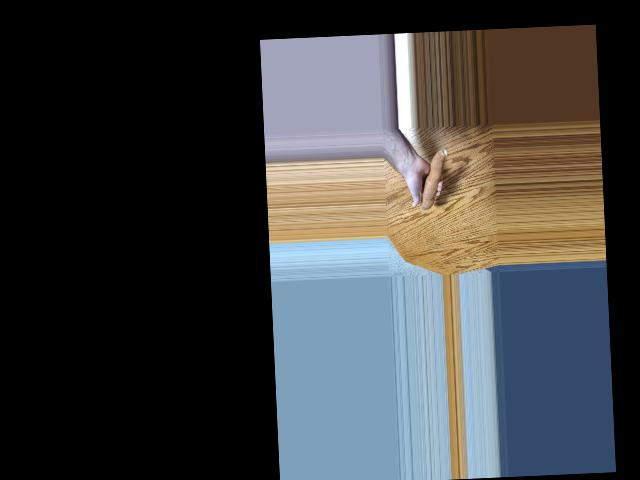sweet_potato: (417, 147, 449, 210)
